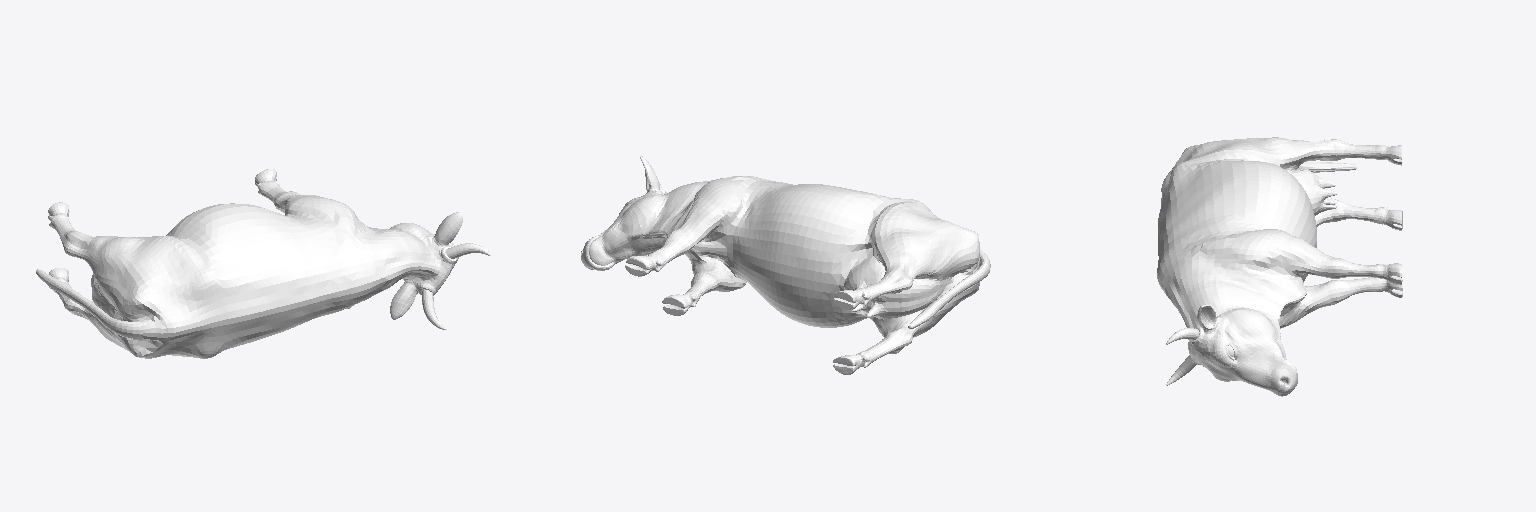
Rendered from cow.obj.
3 views of the same model, side by side, from view 1: azimuth 30°, elevation 25°; view 2: azimuth 150°, elevation 25°; view 3: azimuth 270°, elevation 25° (orthographic).
Visible parts, largest first — view 1: Object.1; view 2: Object.1; view 3: Object.1.
Boxes of the visible parts, <box> form: Object.1: <box>36,169,490,358</box>; Object.1: <box>581,156,990,374</box>; Object.1: <box>1157,137,1402,396</box>.
Bounding box in the file's own units: 893 × 299 × 512.